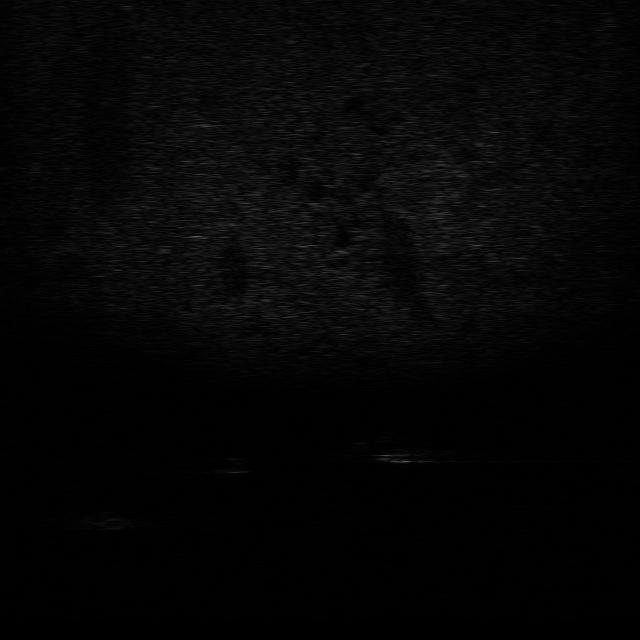ball: (204, 453, 252, 478)
circle cage: (48, 504, 134, 534)
human body: (342, 436, 447, 468)
